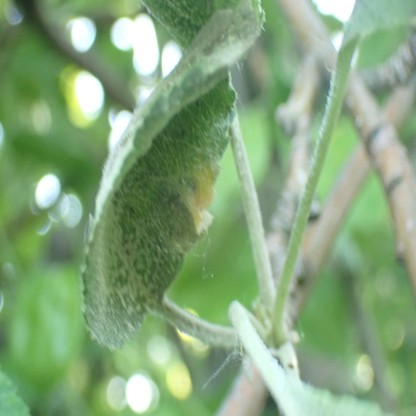powder: (78, 0, 265, 353)
